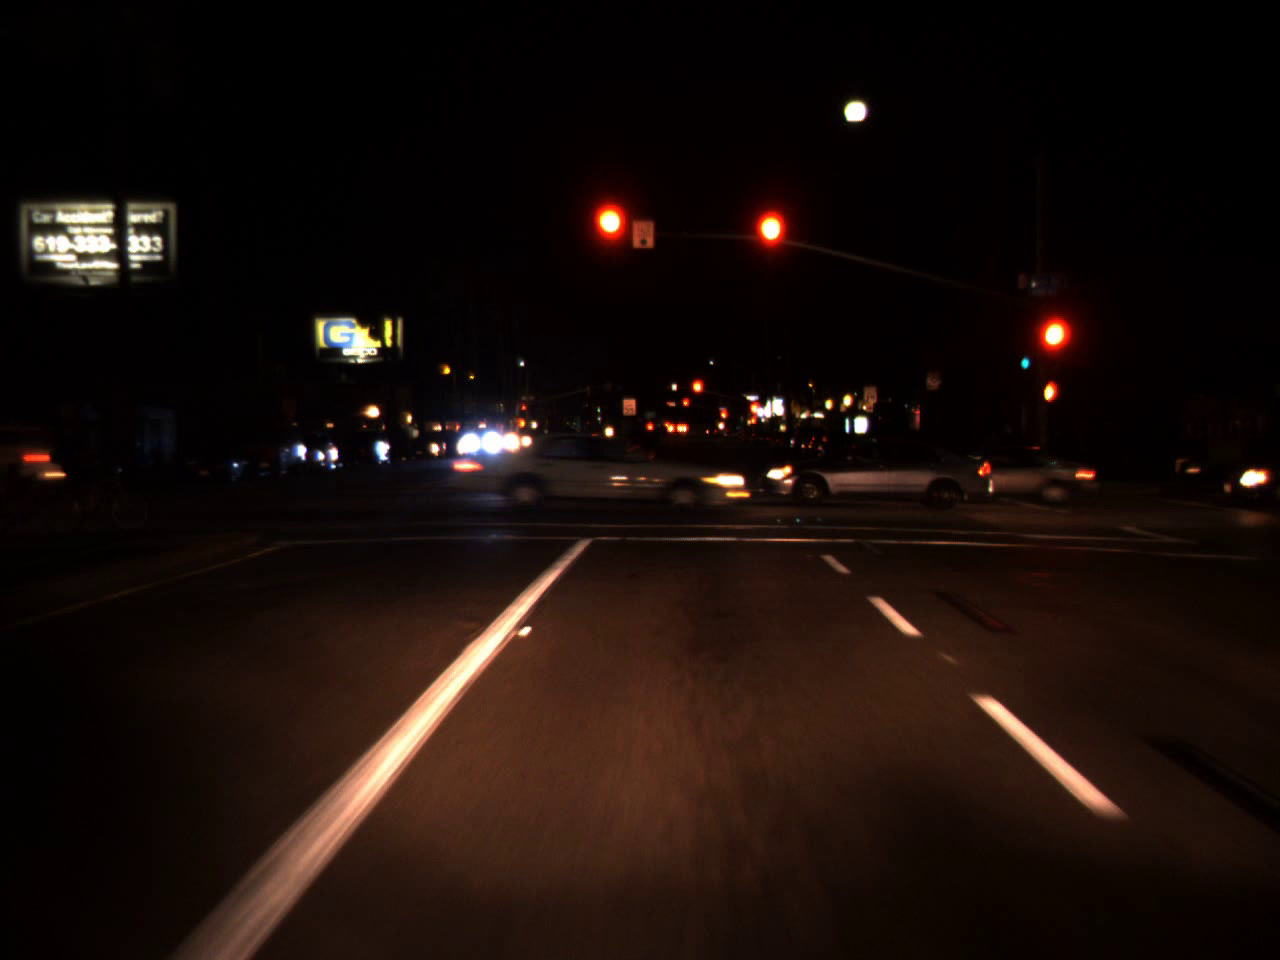stop: (1033, 313, 1072, 391), (751, 204, 788, 282), (593, 203, 630, 278), (690, 377, 705, 409), (680, 397, 692, 418), (718, 408, 727, 426), (750, 404, 759, 419), (521, 402, 527, 418)
